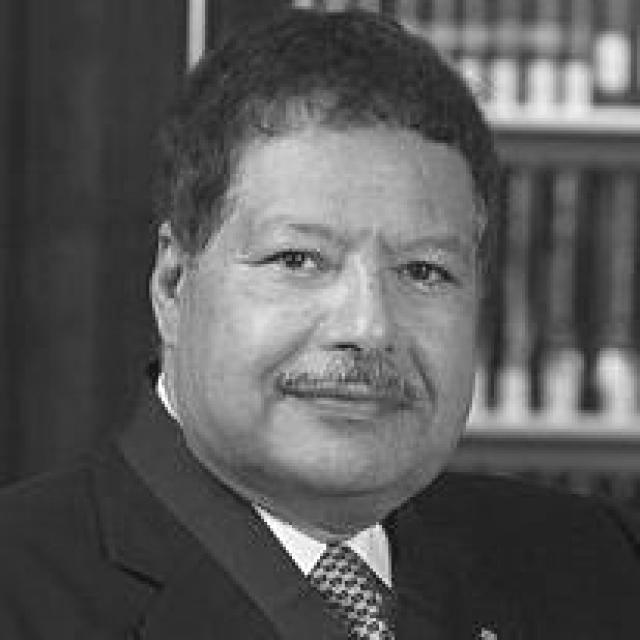real: (169, 120, 488, 522)
